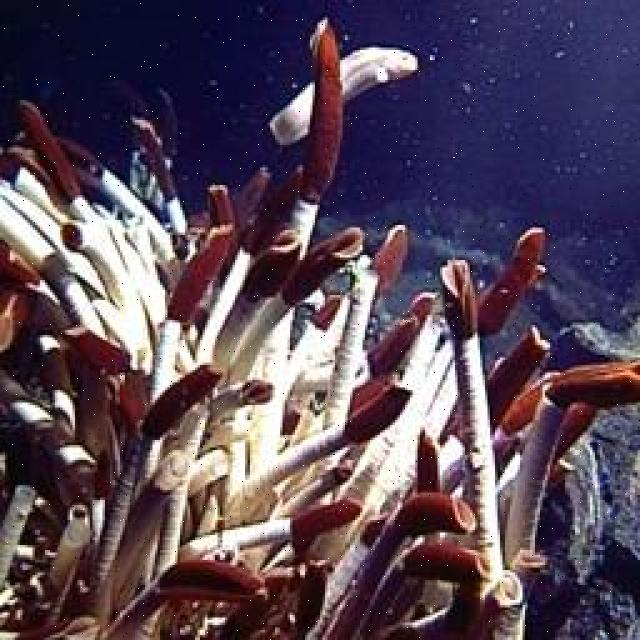fish: (270, 46, 420, 146)
reefs: (2, 19, 638, 636)
